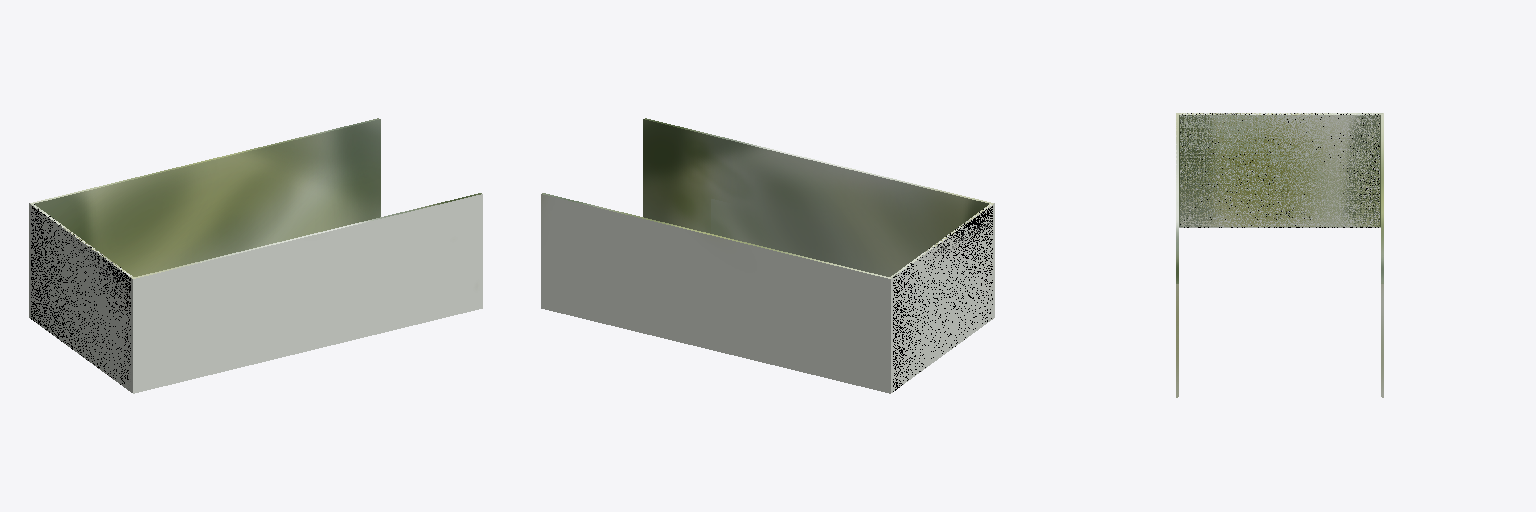
The picture shows the model from 3 angles: view 1: azimuth 30°, elevation 25°; view 2: azimuth 150°, elevation 25°; view 3: azimuth 270°, elevation 25°; orthographic projection.
Visible parts, largest first — view 1: Stanza.001; view 2: Stanza.001; view 3: Stanza.001.
Part boxes in pixels (left/top/right/bottom): Stanza.001: left=29, top=118, right=482, bottom=393; Stanza.001: left=541, top=118, right=994, bottom=393; Stanza.001: left=1176, top=113, right=1383, bottom=397.
Size of the model in its own units: 7.98 by 2.5 by 4.1.
Materials: 1 (1 with a texture image).